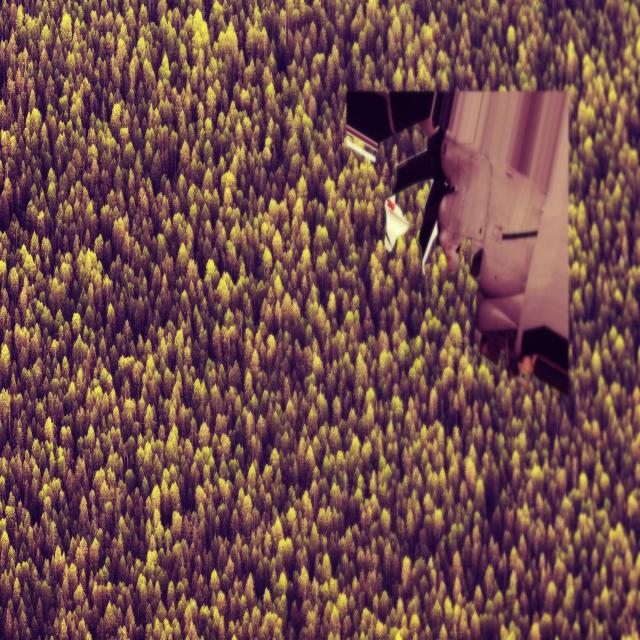airplane: (343, 87, 571, 393)
